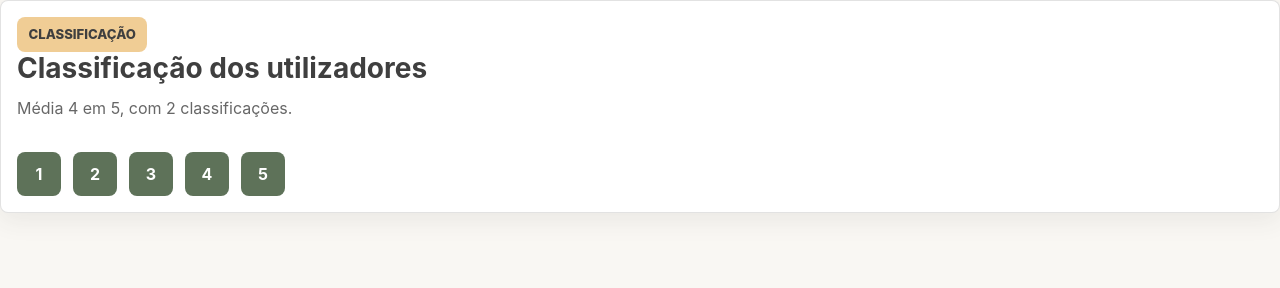
Test: RatingBox › impede mutações sobrepostas e faz reload autoritativo
Check: the text "Média 4 em 5, com 2 classificações." is shown, box top-left (17, 98), bottom-right (292, 118)
What coordinates should you click on to do the following:
click the button "3"
I would click on:
 (151, 174)
Its box is top-left (129, 152), bottom-right (173, 196).
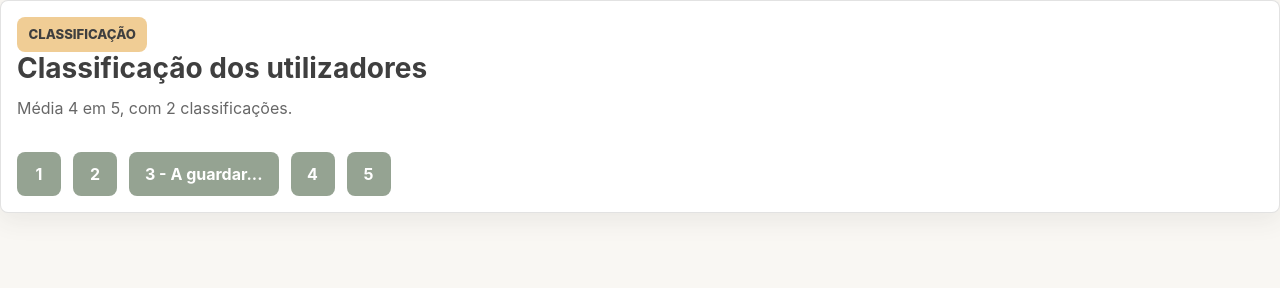
Check: the button "3 - A guardar..." is disabled, box top-left (129, 152), bottom-right (278, 196)
Check: the button "4" is disabled
What coordinates should you click on to do the following:
click the button "4"
I would click on:
 (312, 174)
Its box is top-left (290, 152), bottom-right (334, 196).
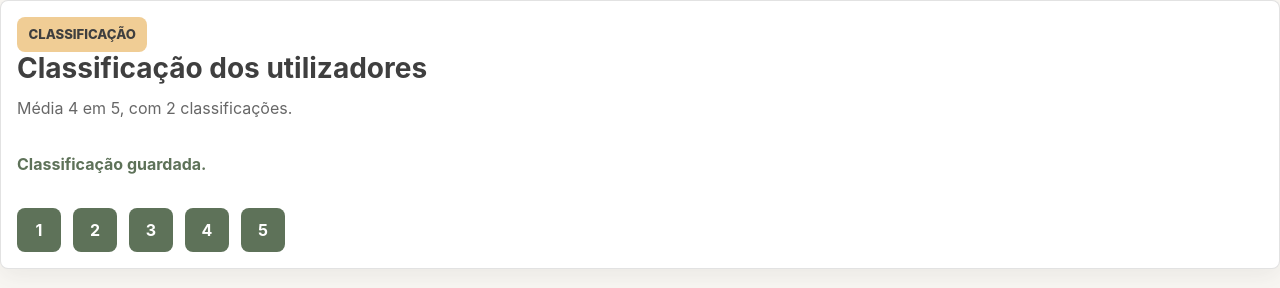
Check: the message reads "Classificação guardada.", box top-left (17, 154), bottom-right (206, 174)
